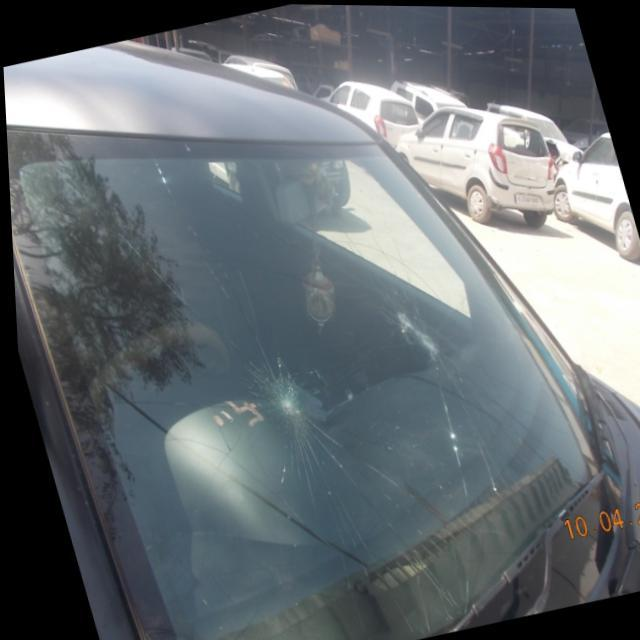Glass_Break: (237, 346, 334, 462), (387, 307, 456, 394)
